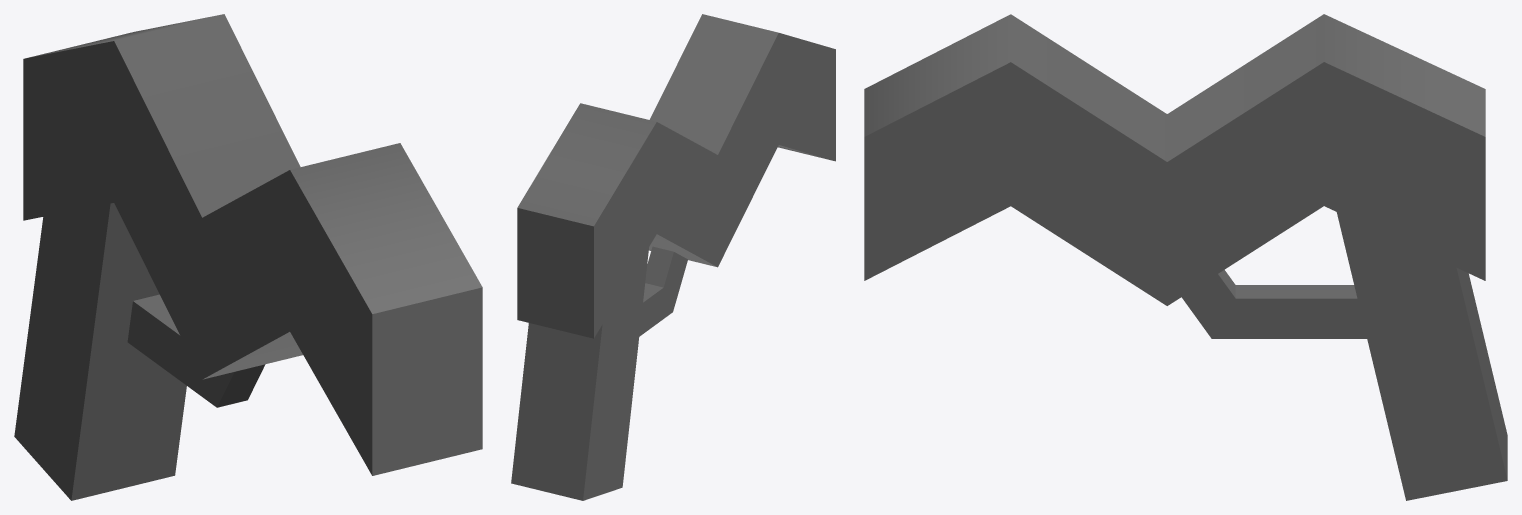
The model's file is Wavegun.obj.
3 renders of one model, left to right at view 1: azimuth 30°, elevation 25°; view 2: azimuth 150°, elevation 25°; view 3: azimuth 270°, elevation 25°, orthographic. The views are drawn at different scales.
Visible parts, largest first — view 1: 立方体.001; view 2: 立方体.001; view 3: 立方体.001.
Part boxes in pixels (x1,y1,x2,y2): 立方体.001: (14, 14, 482, 500); 立方体.001: (511, 14, 835, 500); 立方体.001: (864, 14, 1507, 500).
Size of the model in its own units: 0.112 by 0.4798 by 0.6354.
1 material, 1 textured.
